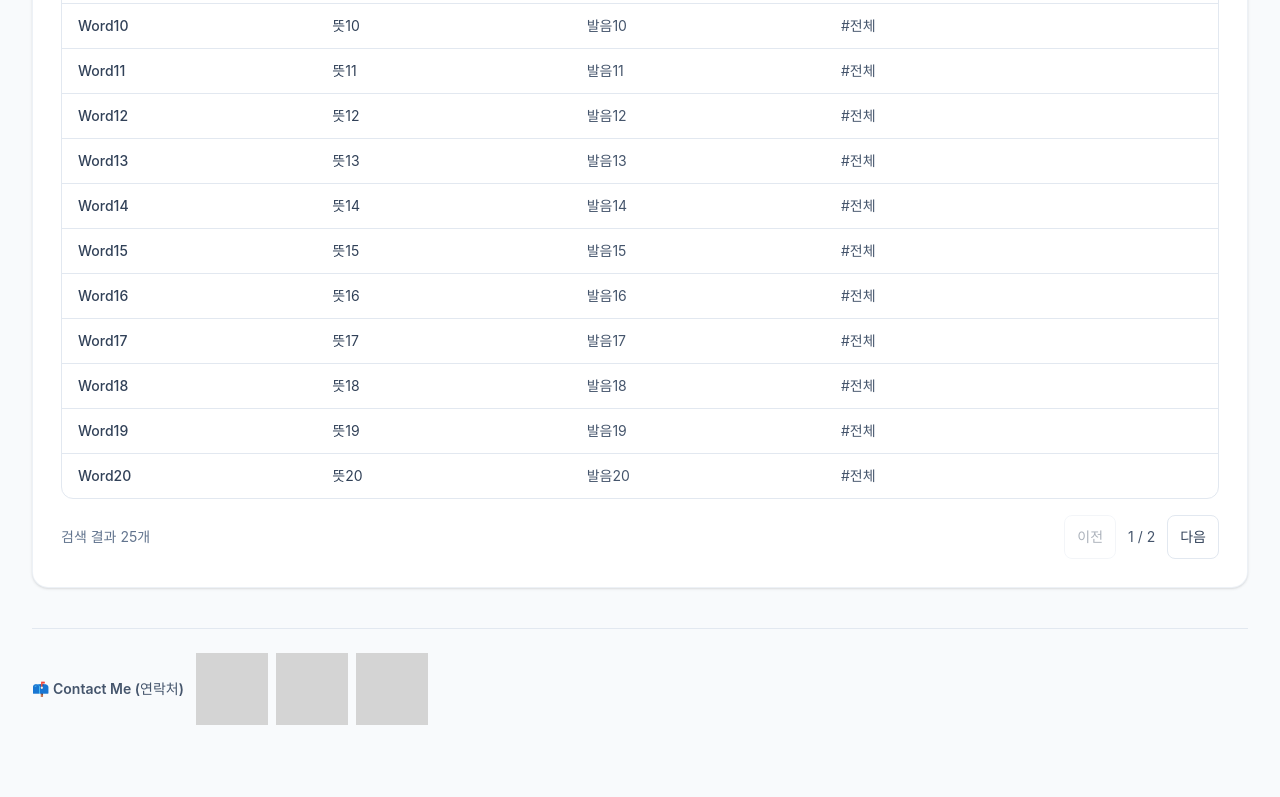
it: Logos Architect workspace › searches dictionary fields and paginates the results
The width and height of the screenshot is (1280, 797).
(page scrolled)
expect the text "Word20" is shown: met, box [62, 454, 316, 498]
expect the text "Word21" is not shown: met
Click the button "다음" at (1193, 537), box [1167, 515, 1219, 559]
(page scrolled)
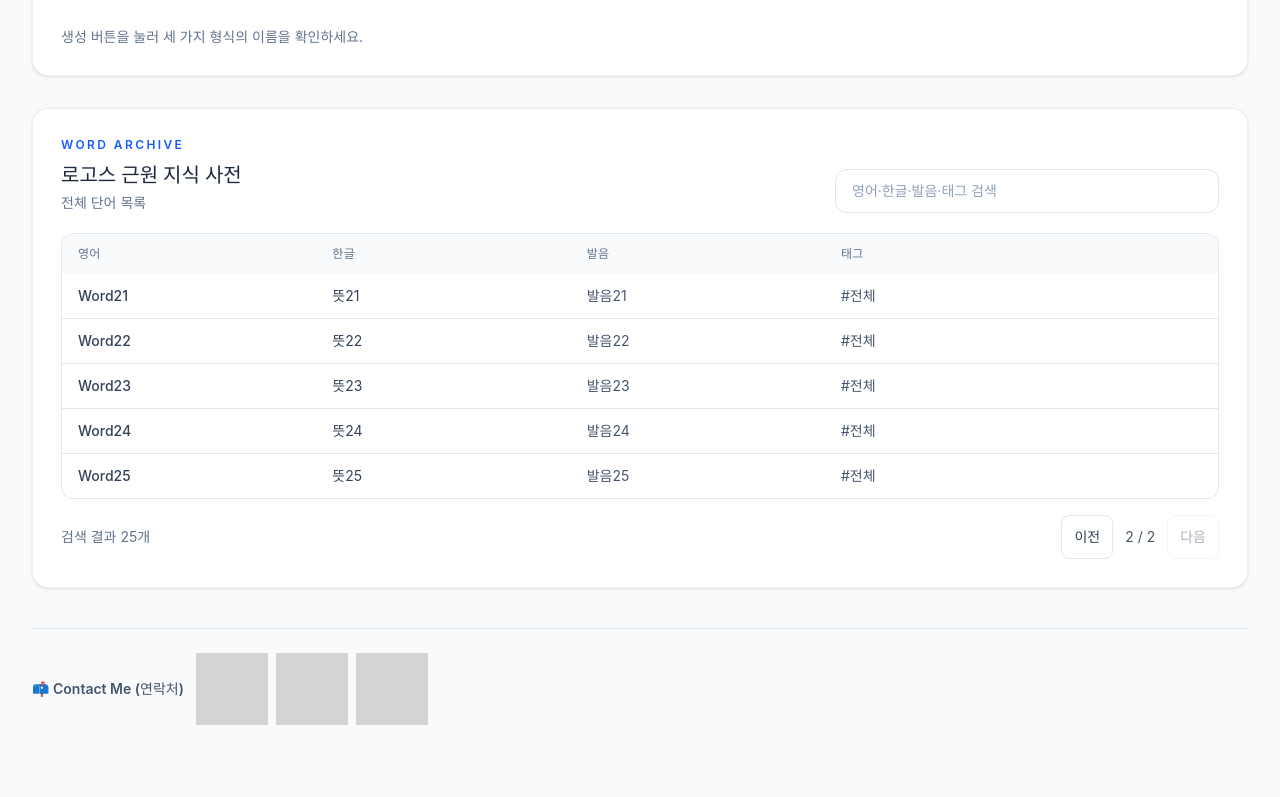
expect the text "Word21" is shown: met, box [62, 274, 316, 318]
Type "Word2" into the search field named "사전 검색" at (1027, 191), box [835, 169, 1219, 213]
(page scrolled)
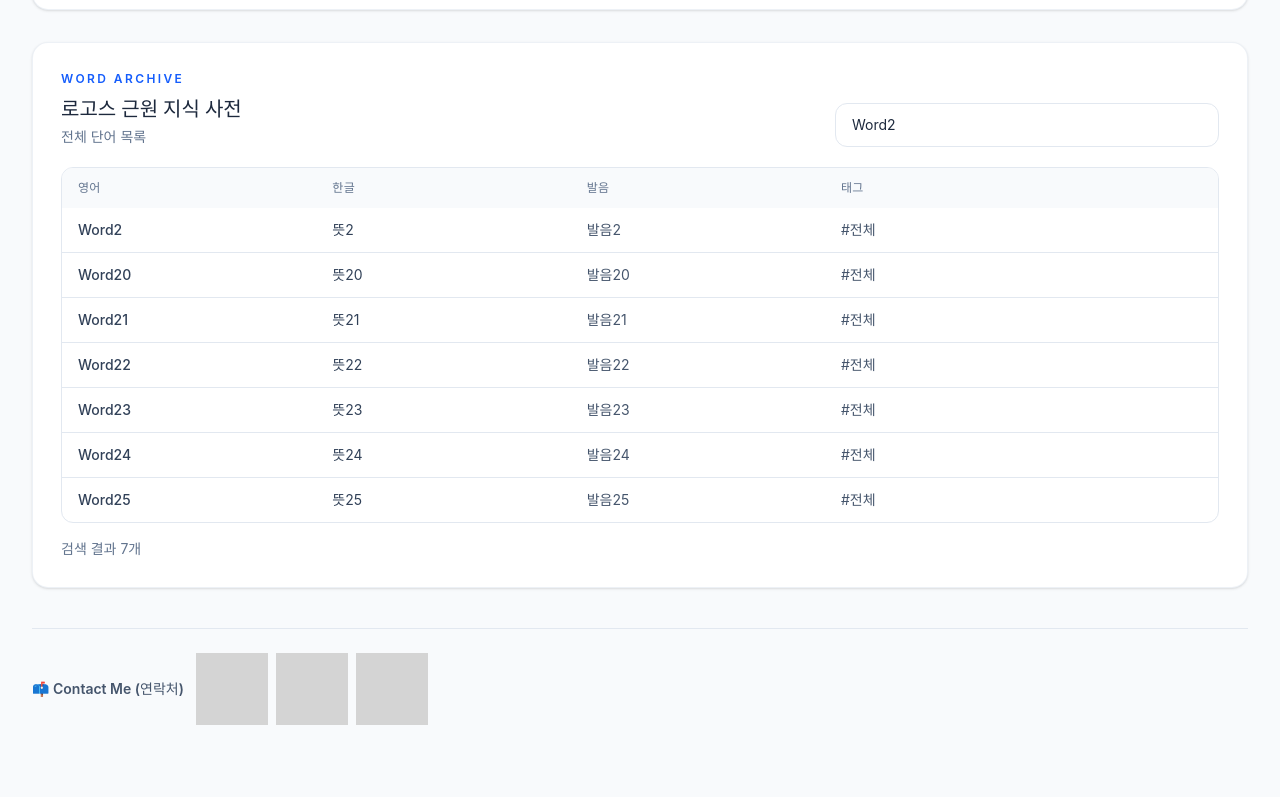
expect the cell "Word2" is shown: met, box [62, 208, 316, 252]
expect the text "Word20" is shown: met, box [62, 252, 316, 298]
expect the text "검색 결과 7개" is shown: met, box [61, 539, 141, 559]
